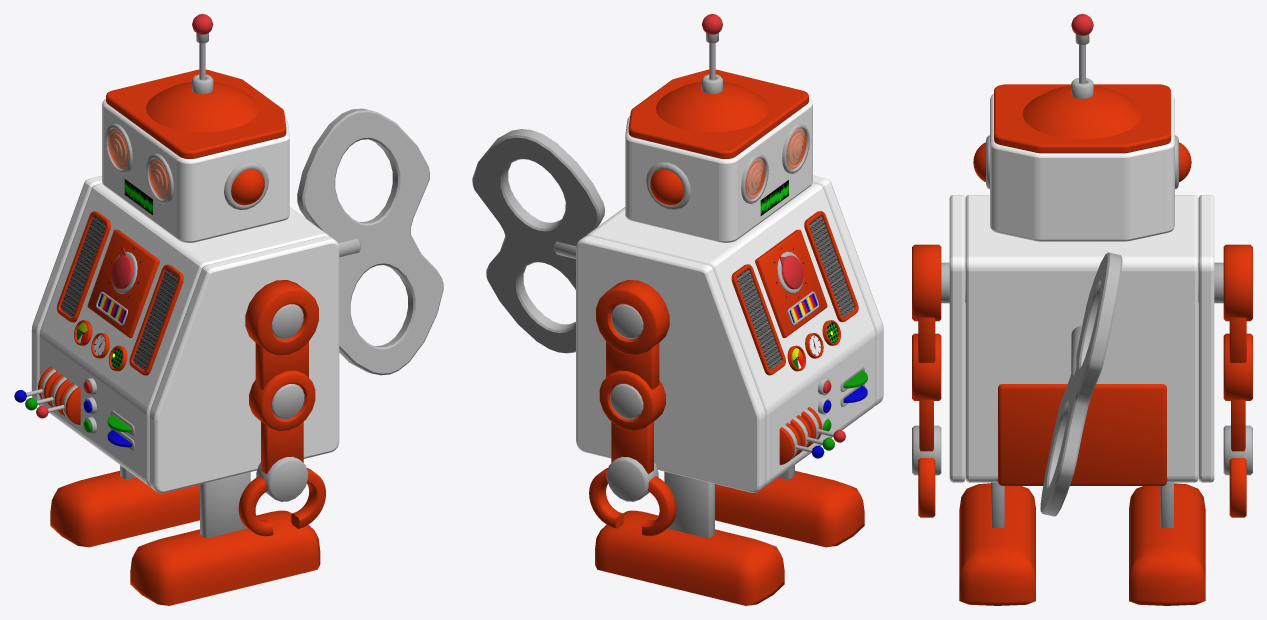
File: robot_cartoon_02.dae
The picture shows the model from 3 angles, left to right: view 1: azimuth 30°, elevation 25°; view 2: azimuth 150°, elevation 25°; view 3: azimuth 270°, elevation 25°; orthographic projection. The views are drawn at different scales.
Parts seen in each view (by area): view 1: coté_droit, corps, clef, tete, pied_G, pied_D, dessus_tete, base_antenne, contour_epaule_G, boitier, jambe_G, coté_gauche (+17 smaller); view 2: coté_gauche, corps, clef, tete, pied_D, pied_G, dessus_tete, base_antenne, contour_epaule_D, boitier, jambe_D, coté_droit (+17 smaller); view 3: corps, tete, trappe, pied_D, pied_G, clef, dessus_tete, coté_gauche, coté_droit, base_antenne, contour_epaule_D, contour_epaule_G (+13 smaller).
Part boxes in pixels (<box>): coté_droit: <box>149,236,339,493</box>; corps: <box>39,183,328,486</box>; clef: <box>297,108,443,375</box>; tete: <box>102,99,289,242</box>; pied_G: <box>130,510,320,605</box>; pied_D: <box>50,470,199,547</box>; dessus_tete: <box>106,69,286,158</box>; base_antenne: <box>146,82,258,132</box>; contour_epaule_G: <box>245,280,318,355</box>; boitier: <box>87,229,159,337</box>; jambe_G: <box>200,472,250,538</box>; coté_gauche: <box>31,176,102,405</box>; coté_gauche: <box>576,236,765,492</box>; corps: <box>586,183,875,486</box>; clef: <box>472,129,604,353</box>; tete: <box>625,99,812,242</box>; pied_D: <box>595,510,784,605</box>; pied_G: <box>715,470,864,547</box>; dessus_tete: <box>628,69,808,158</box>; base_antenne: <box>656,82,768,132</box>; contour_epaule_D: <box>596,280,669,355</box>; boitier: <box>755,229,827,337</box>; jambe_D: <box>664,471,714,538</box>; coté_droit: <box>812,175,883,406</box>; corps: <box>965,195,1198,482</box>; tete: <box>990,94,1174,241</box>; trappe: <box>997,384,1167,485</box>; pied_D: <box>1129,483,1205,605</box>; pied_G: <box>959,483,1035,605</box>; clef: <box>1040,252,1122,516</box>; dessus_tete: <box>994,84,1170,153</box>; coté_gauche: <box>1198,195,1214,482</box>; coté_droit: <box>949,195,965,482</box>; base_antenne: <box>1022,86,1142,139</box>; contour_epaule_D: <box>1223,244,1252,321</box>; contour_epaule_G: <box>912,244,941,321</box>.
Bounding box in the file's own units: 411 × 545 × 302.
16 materials, 6 textured.
